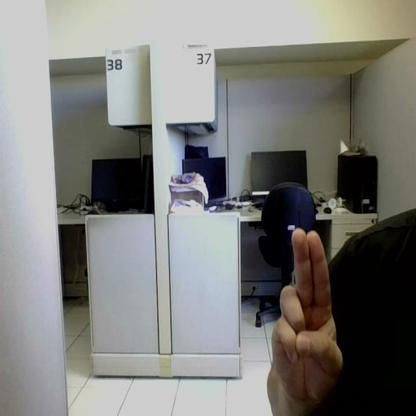U: (273, 230, 343, 402)
